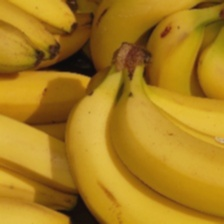banana: (49, 24, 194, 160)
